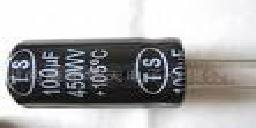Electrolytic-Capacitor: (4, 35, 189, 110)
